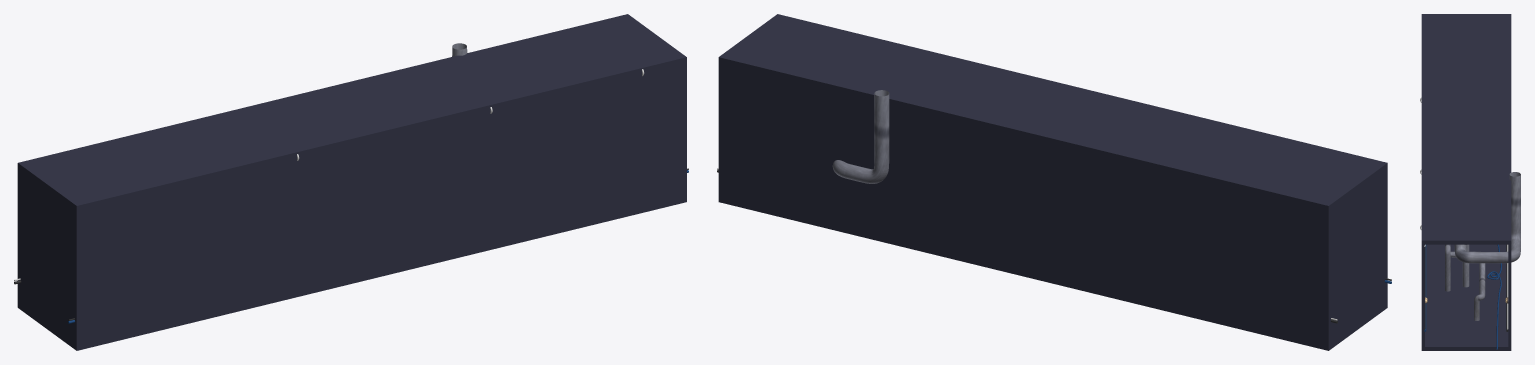
The model's file is CHAUFFERIE.fbx.
3 renders of one model, left to right at view 1: azimuth 30°, elevation 25°; view 2: azimuth 150°, elevation 25°; view 3: azimuth 270°, elevation 25°, orthographic. The views are drawn at different scales.
Parts seen in each view (by area): view 1: STRUCTURE; view 2: STRUCTURE, Tuyau épais milieu; view 3: STRUCTURE, Tuyau épais milieu, Petit tuyau devant-LOW, Fil sol, Tuyau-01, Fil droit gauche, Fil droit droite.
Boxes of the visible parts, x1=… form: STRUCTURE: x1=17, y1=14, x2=686, y2=350; STRUCTURE: x1=718, y1=14, x2=1387, y2=350; Tuyau épais milieu: x1=832, y1=90, x2=889, y2=183; STRUCTURE: x1=1421, y1=14, x2=1511, y2=350; Tuyau épais milieu: x1=1454, y1=172, x2=1520, y2=263; Petit tuyau devant-LOW: x1=1445, y1=244, x2=1485, y2=320; Fil sol: x1=1487, y1=244, x2=1501, y2=349; Tuyau-01: x1=1462, y1=244, x2=1469, y2=287; Fil droit gauche: x1=1424, y1=245, x2=1426, y2=331; Fil droit droite: x1=1507, y1=244, x2=1508, y2=329.
Bounding box in the file's own units: 3184 × 746 × 587.
